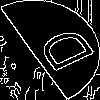D: (25, 25, 97, 79)
